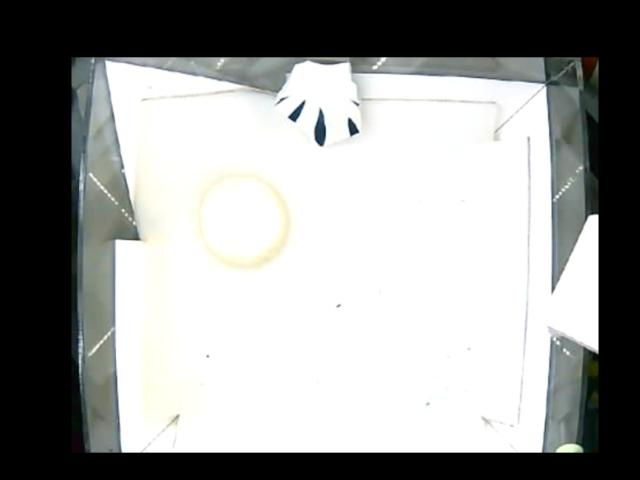China: (275, 60, 357, 148)
Mooli: (196, 175, 289, 268)
